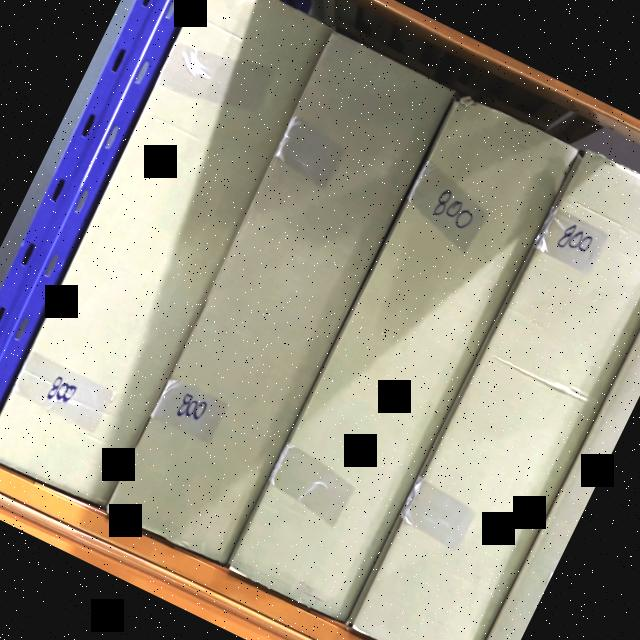box: (231, 91, 577, 621), (108, 39, 450, 563), (0, 0, 338, 504), (352, 150, 640, 640)
